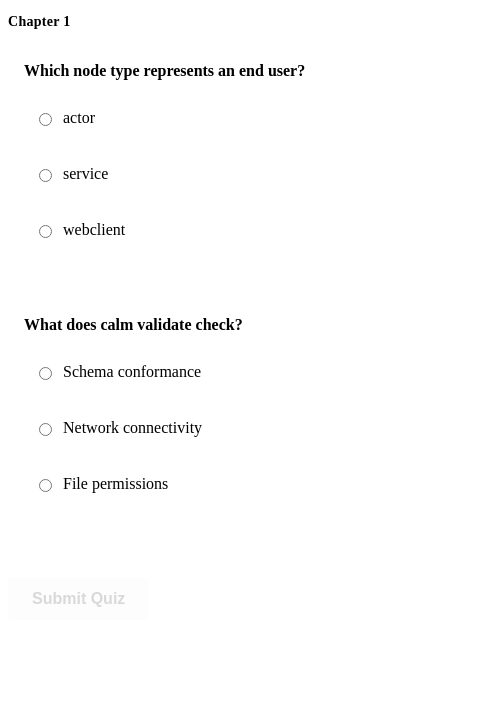
Quiz › Test 3 (submit, all correct): Score shows "You scored N / N" and "Perfect score!" when all correct
# Select correct answer for q1 (actor — index 0)
Click the radio button labelled "actor" at (46, 120), box [39,113,52,126]
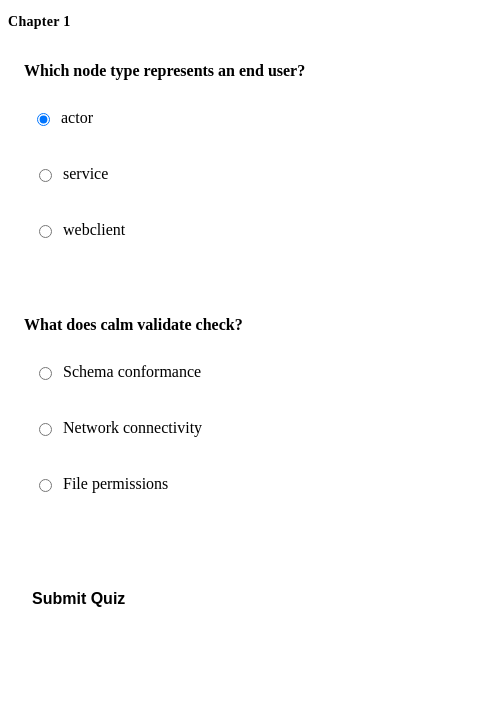
# Select correct answer for q2 (Schema conformance — index 3 relative to all radios)
Click the radio button labelled "Schema conformance" at (46, 374), box [39,367,52,380]
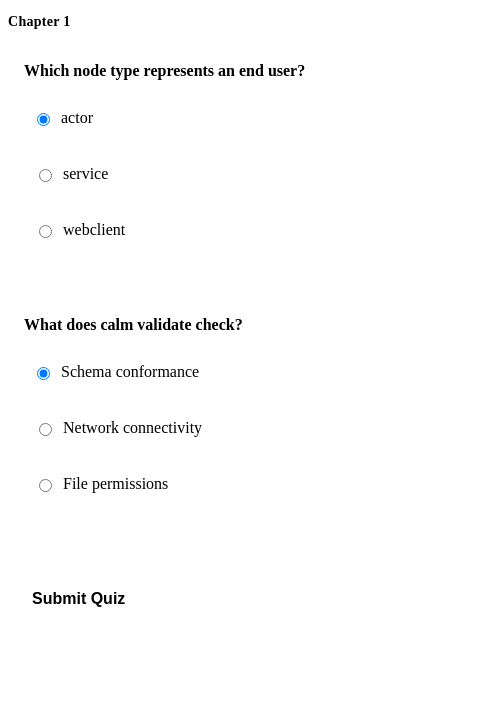
Click the button "Submit Quiz" at (79, 599), box [8,578,149,620]
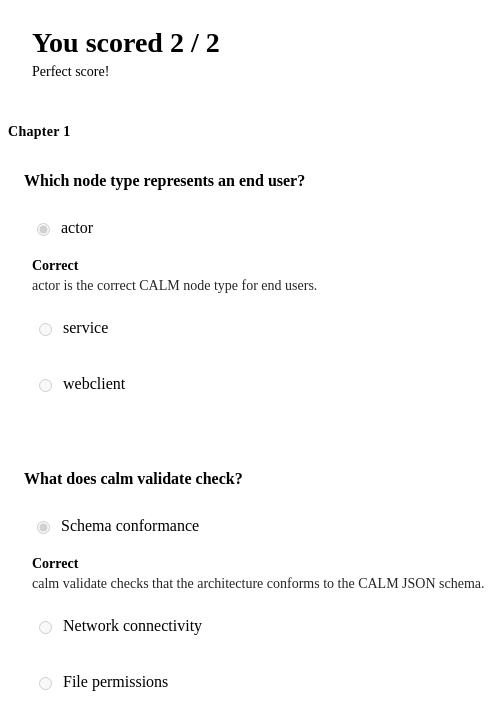
Check: the text "You scored 2 / 2" is shown, box [32,26,220,60]
Check: the text "Perfect score!" is shown, box [32,64,109,79]
